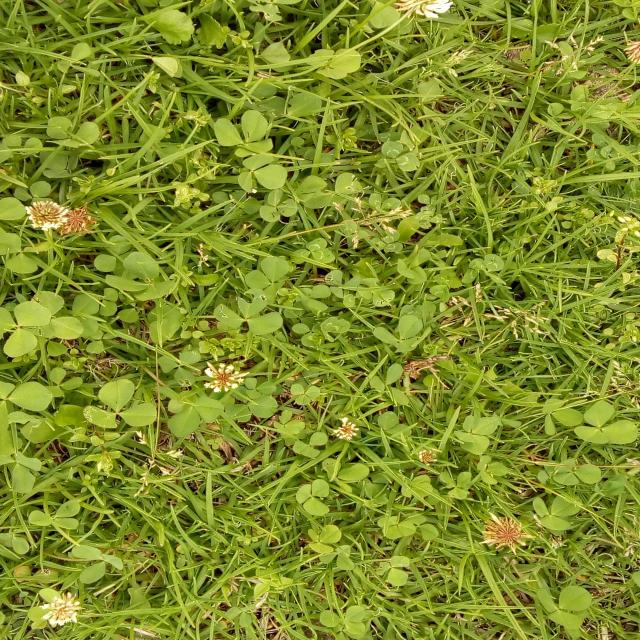Four Leaf Clover: (453, 414, 498, 455)
